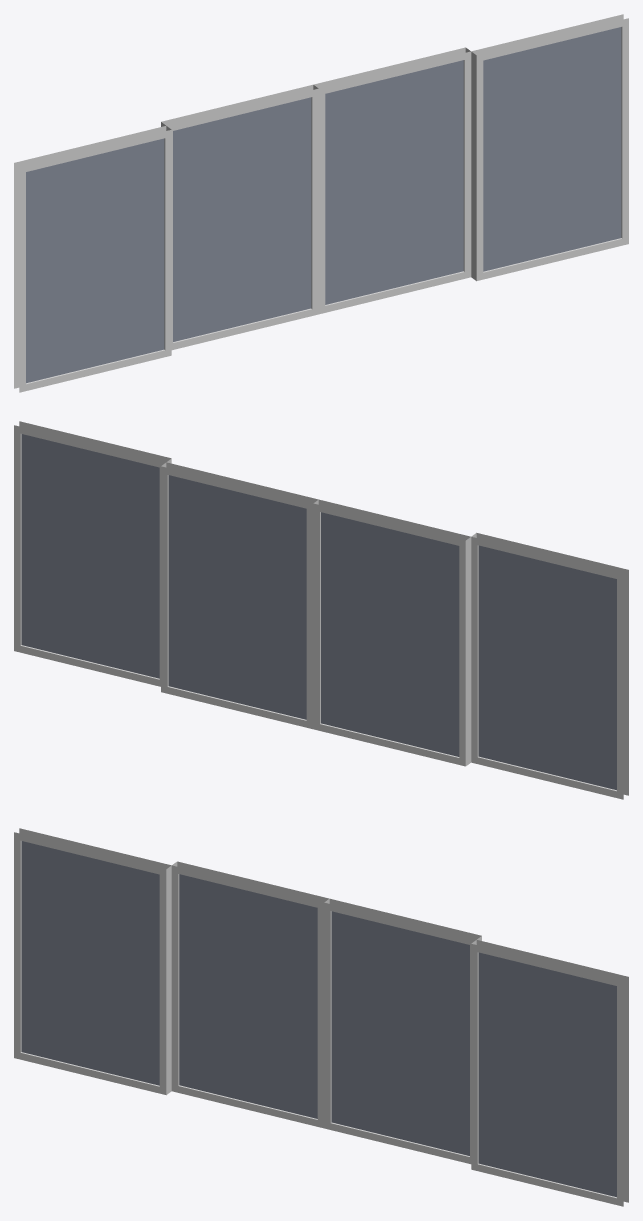
Rendered from PuertasCorrederas.fbx.
3 views of the same model, one above another, from view 1: azimuth 30°, elevation 25°; view 2: azimuth 150°, elevation 25°; view 3: azimuth 330°, elevation 25° (orthographic).
Visible parts, largest first — view 1: Cristal_msh (×2), Cristal_1_msh, Cristal_0_msh, CristaleraPuertasCorrederas_msh, PuertaCorredera_D_msh, PuertaCorredera_I_msh; view 2: Cristal_msh (×2), Cristal_1_msh, Cristal_0_msh, CristaleraPuertasCorrederas_msh, PuertaCorredera_I_msh, PuertaCorredera_D_msh; view 3: Cristal_msh (×2), Cristal_0_msh, Cristal_1_msh, CristaleraPuertasCorrederas_msh, PuertaCorredera_I_msh, PuertaCorredera_D_msh.
Part boxes in pixels (x1,y1,x2,y2): Cristal_msh (×2): (173,60,463,341); Cristal_1_msh: (483,27,621,271); Cristal_0_msh: (26,138,164,383); CristaleraPuertasCorrederas_msh: (14,14,628,392); PuertaCorredera_D_msh: (314,47,471,314); PuertaCorredera_I_msh: (161,84,318,350); Cristal_msh (×2): (168,475,459,756); Cristal_1_msh: (21,434,159,678); Cristal_0_msh: (478,545,616,790); CristaleraPuertasCorrederas_msh: (14,421,628,799); PuertaCorredera_I_msh: (313,499,471,766); PuertaCorredera_D_msh: (161,462,318,729); Cristal_msh (×2): (179,874,469,1155); Cristal_0_msh: (21,841,159,1085); Cristal_1_msh: (478,952,616,1197); CristaleraPuertasCorrederas_msh: (14,828,628,1206); PuertaCorredera_I_msh: (171,861,328,1128); PuertaCorredera_D_msh: (324,898,481,1164).
Size of the model in its own units: 832 by 295 by 25.51.
